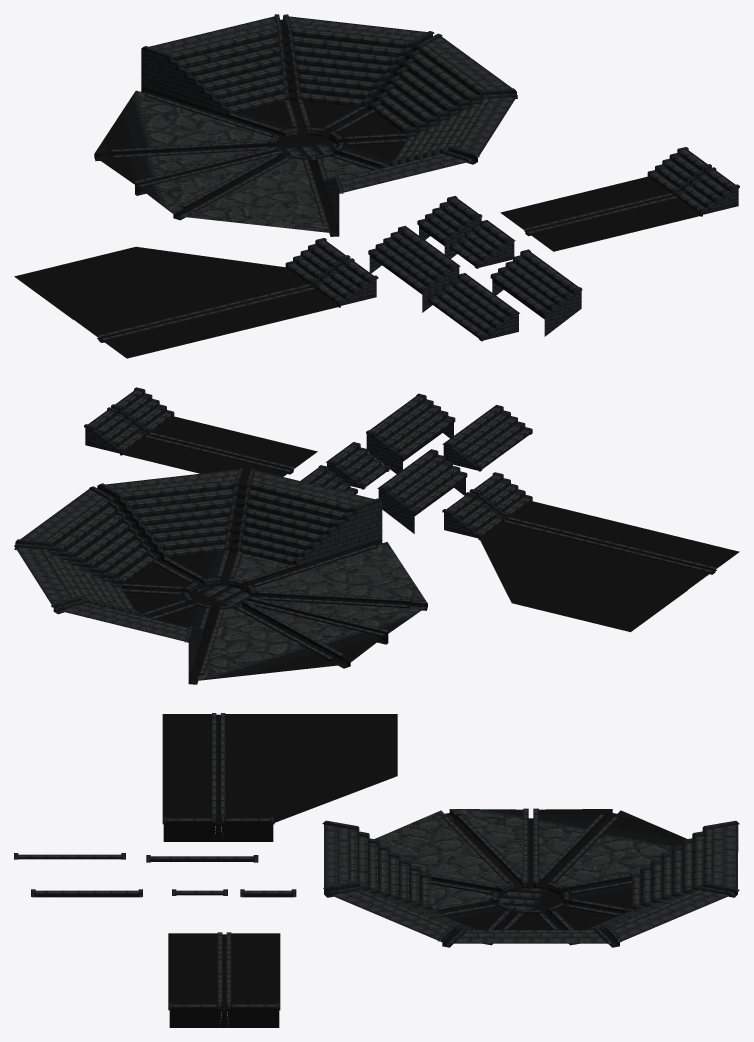
File: EnvObjMD_ChurchSquare_A_MountDaiseidou.FBX
3 views of the same model, one above another, from view 1: azimuth 30°, elevation 25°; view 2: azimuth 150°, elevation 25°; view 3: azimuth 270°, elevation 25° (orthographic). The views are drawn at different scales.
Parts seen in each view (by area): view 1: EnvObjMD_ChurchSquare_A_MountDaiseidou, EnvObjMD_ChurchSquare_A_MountDaiseidou_Stairs_A_corner, EnvObjMD_ChurchSquare_A_MountDaiseidou_Stairs_A, EnvObjMD_ChurchSquare_A_MountDaiseidou_Stairs_B_End, EnvObjMD_ChurchSquare_A_MountDaiseidou_Stairs_B_Roop, EnvObjMD_ChurchSquare_A_MountDaiseidou_Stairs_B_Start, EnvObjMD_ChurchSquare_A_MountDaiseidou_Stairs_B_Short_End, EnvObjMD_ChurchSquare_A_MountDaiseidou_Stairs_B_Short_Start; view 2: EnvObjMD_ChurchSquare_A_MountDaiseidou, EnvObjMD_ChurchSquare_A_MountDaiseidou_Stairs_A_corner, EnvObjMD_ChurchSquare_A_MountDaiseidou_Stairs_A, EnvObjMD_ChurchSquare_A_MountDaiseidou_Stairs_B_End, EnvObjMD_ChurchSquare_A_MountDaiseidou_Stairs_B_Roop, EnvObjMD_ChurchSquare_A_MountDaiseidou_Stairs_B_Start, EnvObjMD_ChurchSquare_A_MountDaiseidou_Stairs_B_Short_Start, EnvObjMD_ChurchSquare_A_MountDaiseidou_Stairs_B_Short_End; view 3: EnvObjMD_ChurchSquare_A_MountDaiseidou, EnvObjMD_ChurchSquare_A_MountDaiseidou_Stairs_A_corner, EnvObjMD_ChurchSquare_A_MountDaiseidou_Stairs_A, EnvObjMD_ChurchSquare_A_MountDaiseidou_Stairs_B_End, EnvObjMD_ChurchSquare_A_MountDaiseidou_Stairs_B_Roop, EnvObjMD_ChurchSquare_A_MountDaiseidou_Stairs_B_Start.
Boxes of the visible parts, bbox=[...] form: EnvObjMD_ChurchSquare_A_MountDaiseidou: bbox=[94, 14, 517, 236]; EnvObjMD_ChurchSquare_A_MountDaiseidou_Stairs_A_corner: bbox=[14, 238, 378, 358]; EnvObjMD_ChurchSquare_A_MountDaiseidou_Stairs_A: bbox=[500, 147, 739, 251]; EnvObjMD_ChurchSquare_A_MountDaiseidou_Stairs_B_End: bbox=[490, 249, 582, 336]; EnvObjMD_ChurchSquare_A_MountDaiseidou_Stairs_B_Roop: bbox=[368, 225, 460, 312]; EnvObjMD_ChurchSquare_A_MountDaiseidou_Stairs_B_Start: bbox=[428, 273, 519, 341]; EnvObjMD_ChurchSquare_A_MountDaiseidou_Stairs_B_Short_End: bbox=[417, 196, 482, 258]; EnvObjMD_ChurchSquare_A_MountDaiseidou_Stairs_B_Short_Start: bbox=[450, 220, 515, 268]; EnvObjMD_ChurchSquare_A_MountDaiseidou: bbox=[14, 468, 427, 684]; EnvObjMD_ChurchSquare_A_MountDaiseidou_Stairs_A_corner: bbox=[442, 472, 739, 632]; EnvObjMD_ChurchSquare_A_MountDaiseidou_Stairs_A: bbox=[84, 387, 317, 476]; EnvObjMD_ChurchSquare_A_MountDaiseidou_Stairs_B_End: bbox=[366, 393, 455, 474]; EnvObjMD_ChurchSquare_A_MountDaiseidou_Stairs_B_Roop: bbox=[377, 449, 467, 533]; EnvObjMD_ChurchSquare_A_MountDaiseidou_Stairs_B_Start: bbox=[442, 405, 532, 471]; EnvObjMD_ChurchSquare_A_MountDaiseidou_Stairs_B_Short_Start: bbox=[326, 442, 389, 489]; EnvObjMD_ChurchSquare_A_MountDaiseidou_Stairs_B_Short_End: bbox=[300, 465, 357, 494]; EnvObjMD_ChurchSquare_A_MountDaiseidou: bbox=[322, 808, 739, 947]; EnvObjMD_ChurchSquare_A_MountDaiseidou_Stairs_A_corner: bbox=[162, 713, 397, 841]; EnvObjMD_ChurchSquare_A_MountDaiseidou_Stairs_A: bbox=[168, 932, 280, 1027]; EnvObjMD_ChurchSquare_A_MountDaiseidou_Stairs_B_End: bbox=[31, 889, 142, 897]; EnvObjMD_ChurchSquare_A_MountDaiseidou_Stairs_B_Roop: bbox=[146, 855, 258, 862]; EnvObjMD_ChurchSquare_A_MountDaiseidou_Stairs_B_Start: bbox=[14, 853, 125, 859].
Size of the model in its own units: 3326 by 305 by 3242.
1 material, 1 textured.
